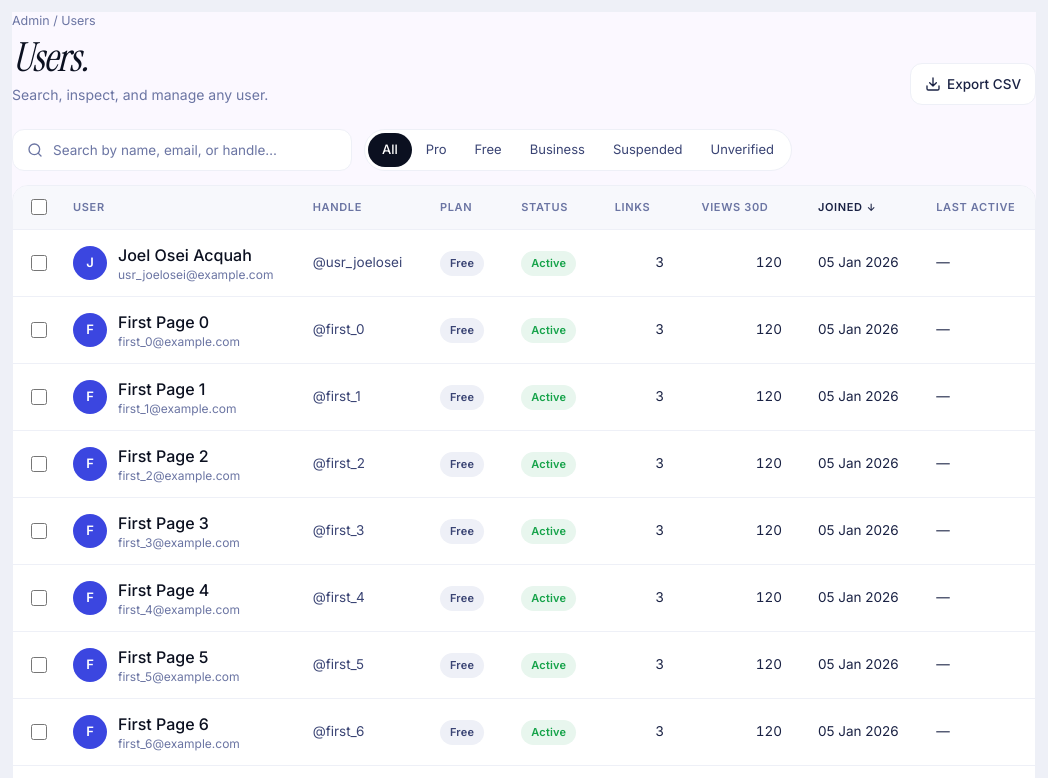
Test case: UsersClient › shows the bulk bar with a live count when rows are selected
Expected: the text "Joel Osei Acquah" is shown, x1=118 y1=242 x2=273 y2=266
Click the checkbox named "Select Joel Osei Acquah": (39, 262) x1=31 y1=254 x2=47 y2=270
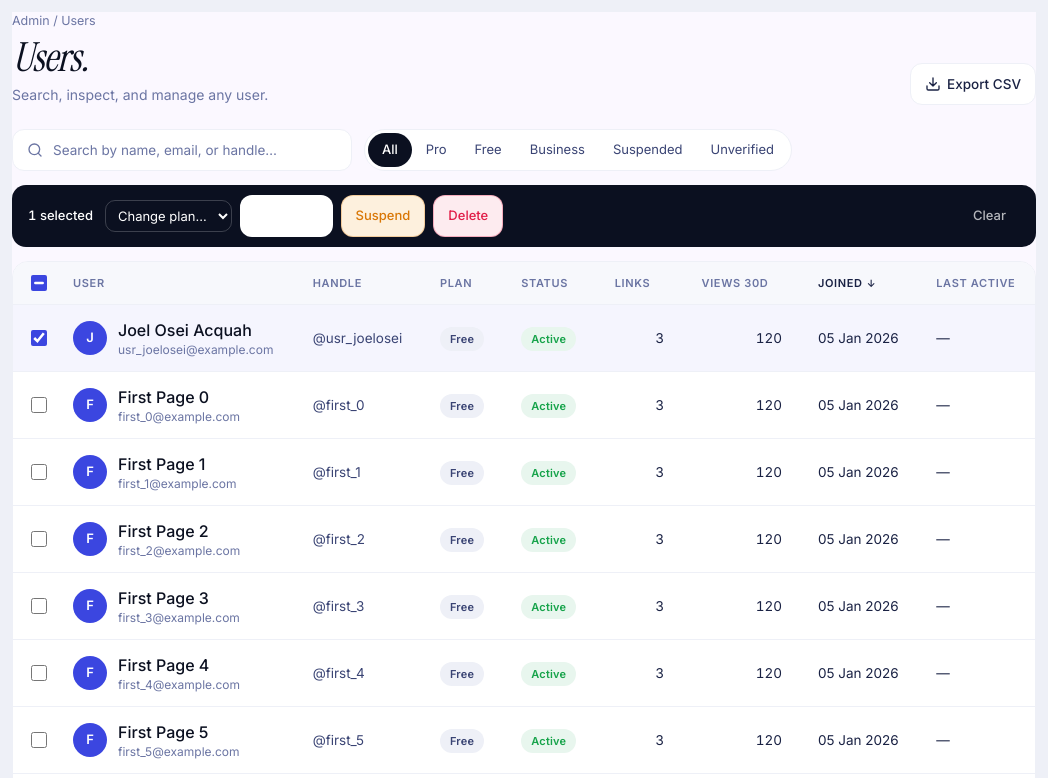
Expected: the element named "Bulk actions" shows "1 selected", x1=12 y1=185 x2=1036 y2=246
Click the checkbox named "Select all rows on this page": (39, 283) x1=31 y1=275 x2=47 y2=291
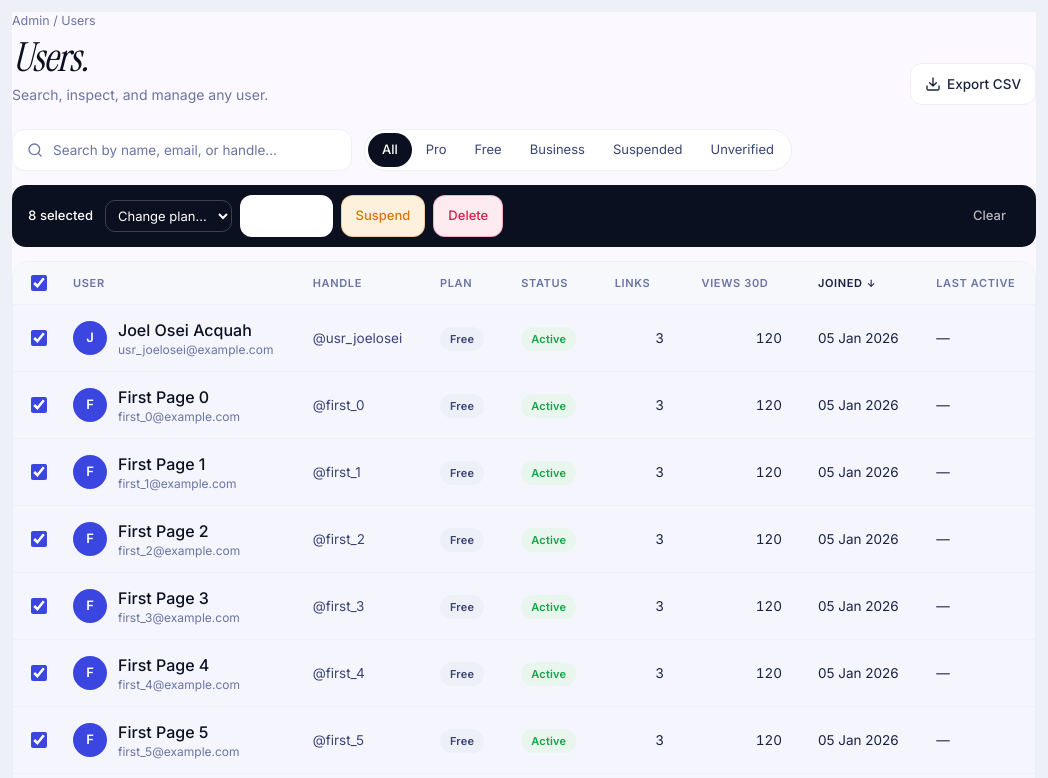
Expected: the element named "Bulk actions" shows "8 selected", x1=12 y1=185 x2=1036 y2=246
